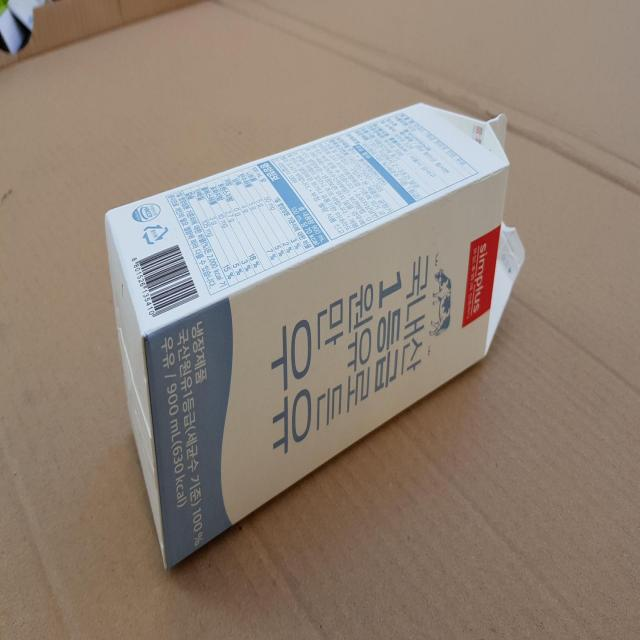paperpack: (105, 103, 525, 568)
